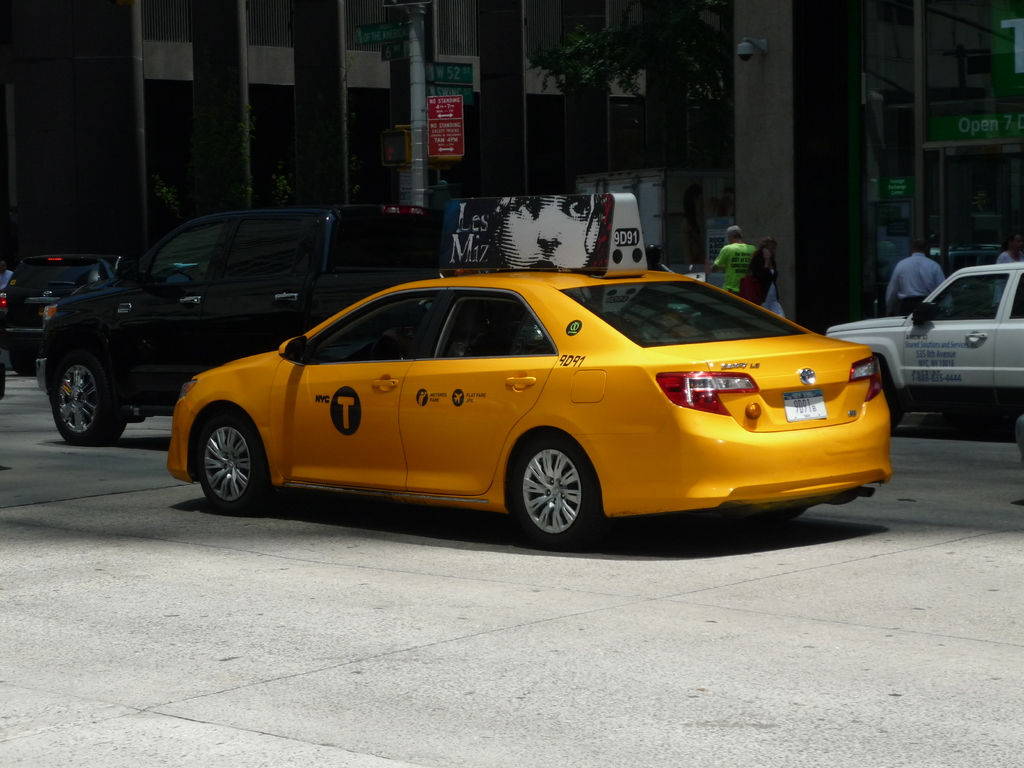mobil: (177, 275, 893, 547)
